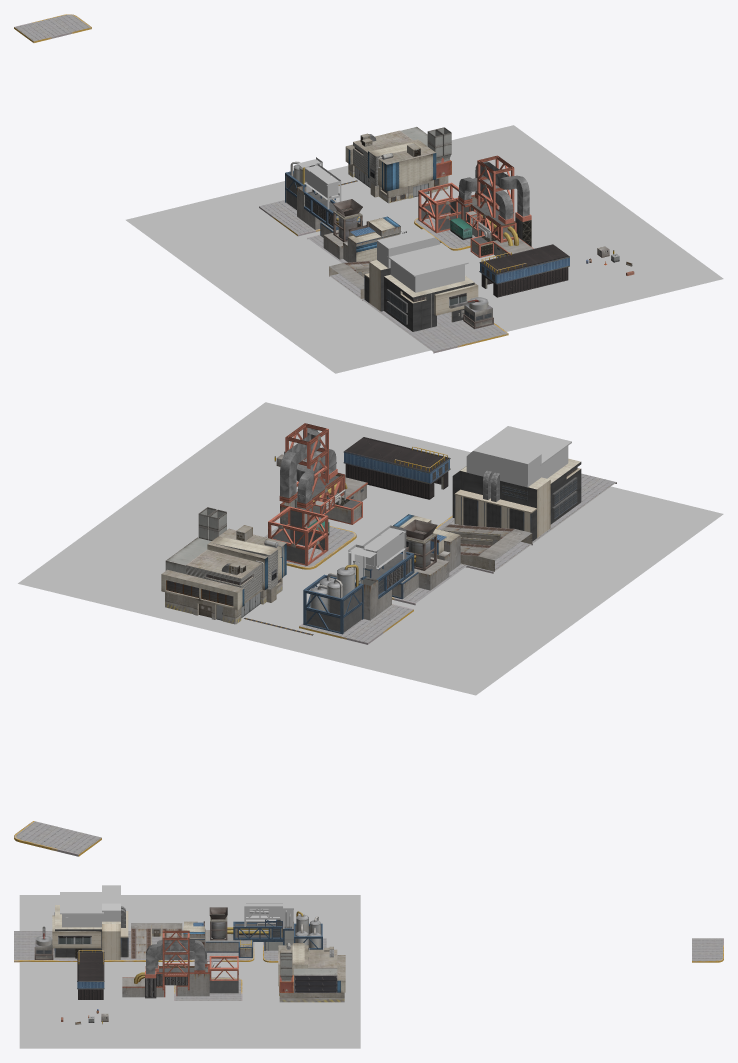
The model's file is Map_P03_Nupolant.fbx.
3 views of the same model, one above another, from view 1: azimuth 30°, elevation 25°; view 2: azimuth 150°, elevation 25°; view 3: azimuth 270°, elevation 25° (orthographic). The views are drawn at different scales.
Visible parts, largest first — view 1: Terrain3, Assets_45, Assets_14, Assets_34, Assets_22, Assets_06, Assets_28, Assets_48, Assets_01, Assets_36, Assets_21, Assets_37 (+6 smaller); view 2: Terrain3, Assets_45, Assets_14, Assets_06, Assets_28, Assets_34, Assets_22, Assets_03, Assets_21, Assets_26, Assets_51, Assets_37 (+9 smaller); view 3: Terrain3, Assets_28, Assets_14, Assets_22, Assets_34, Assets_45, Assets_36, Assets_06, Assets_04, Assets_03, Assets_48, Assets_51 (+9 smaller).
Part boxes in pixels (x1,y1,x2,y2): Terrain3: (126, 125, 723, 373); Assets_45: (345, 130, 448, 203); Assets_14: (364, 260, 478, 331); Assets_34: (377, 229, 468, 292); Assets_22: (456, 176, 533, 257); Assets_06: (479, 244, 569, 297); Assets_28: (297, 186, 362, 259); Assets_48: (362, 299, 508, 353); Assets_01: (343, 216, 400, 262); Assets_36: (475, 161, 531, 246); Assets_21: (418, 182, 469, 233); Assets_37: (14, 14, 91, 42); Terrain3: (18, 402, 723, 695); Assets_45: (161, 528, 286, 624); Assets_14: (452, 458, 581, 541); Assets_06: (343, 437, 450, 499); Assets_28: (355, 519, 449, 620); Assets_34: (466, 426, 571, 487); Assets_22: (280, 447, 367, 529); Assets_03: (442, 524, 532, 571); Assets_21: (268, 506, 328, 565); Assets_26: (303, 574, 363, 634); Assets_51: (348, 525, 406, 581); Assets_37: (14, 821, 101, 856); Terrain3: (19, 895, 360, 1048); Assets_28: (205, 907, 293, 957); Assets_14: (52, 905, 128, 959); Assets_22: (122, 948, 209, 997); Assets_34: (60, 885, 120, 927); Assets_45: (278, 943, 345, 1002); Assets_36: (145, 940, 205, 998); Assets_06: (77, 952, 104, 999); Assets_04: (294, 968, 337, 992); Assets_03: (131, 923, 182, 958); Assets_48: (14, 931, 129, 962); Assets_51: (244, 902, 293, 928).
Bounding box in the file's own units: 10371 × 1957 × 20230.
